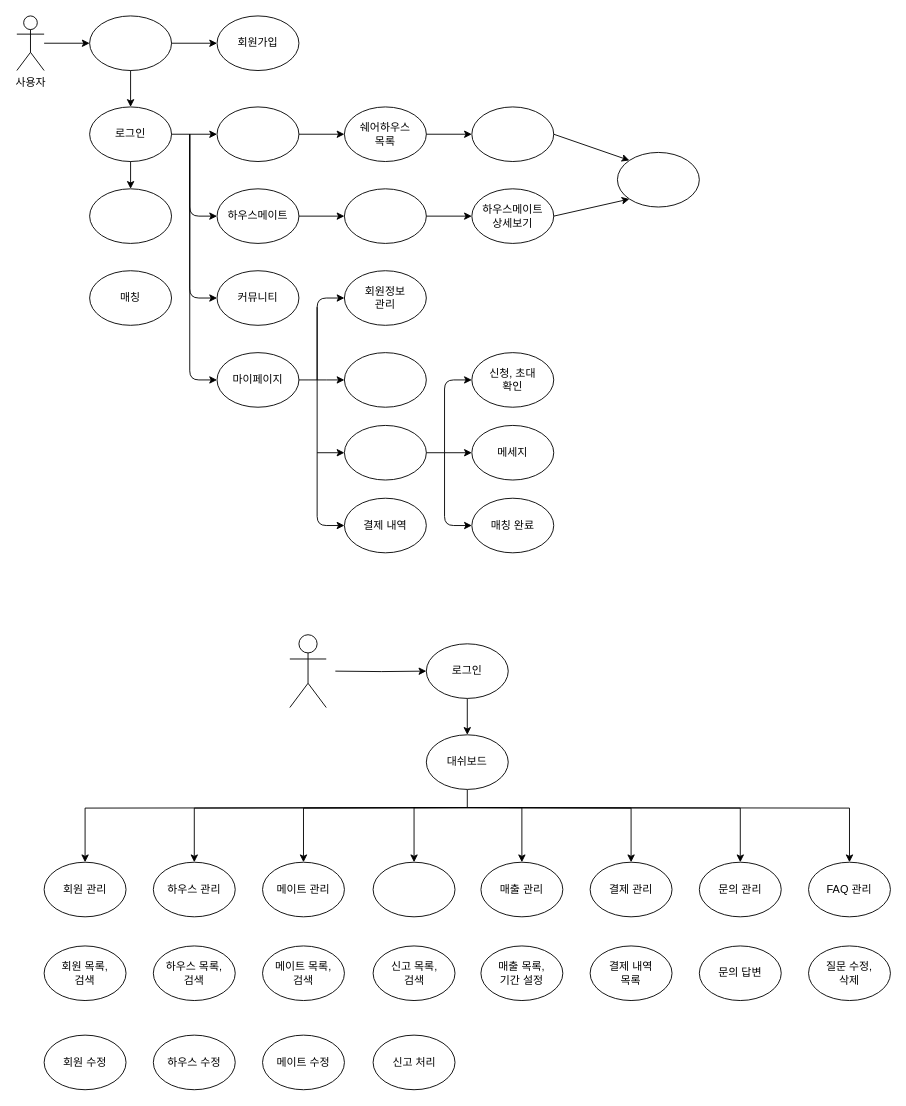
This 906x1106 diagram has some shape labels left out. The centre of each missing label's shape, as x and y in pixels:
INDEX: pixel 130 43
관리자: pixel 307 671
나의 성향 관리: pixel 385 379
쉐어하우스: pixel 257 134
쉐어하우스 상세보기: pixel 512 134
신고 관리: pixel 413 889
찜 하기 초대 신청: pixel 658 179
프리미엄 결제: pixel 130 215
하우스&메이트 관리: pixel 385 452
하우스메이트 목록: pixel 385 215
